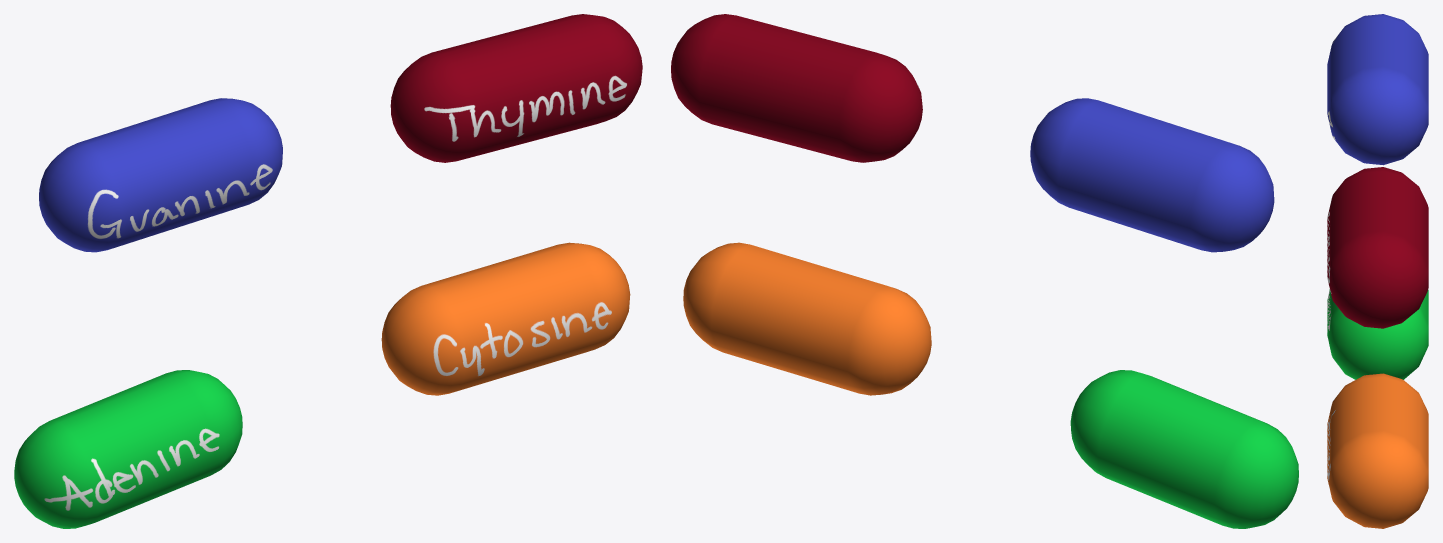
File: dna_parts.gltf
3 renders of one model, left to right at view 1: azimuth 30°, elevation 25°; view 2: azimuth 150°, elevation 25°; view 3: azimuth 270°, elevation 25°, orthographic. The views are drawn at different scales.
Visible parts, largest first — view 1: mesh_id160, mesh_id162, mesh_id159, mesh_id161; view 2: mesh_id160, mesh_id162, mesh_id159, mesh_id161; view 3: mesh_id160, mesh_id162, mesh_id159, mesh_id161.
Boxes of the visible parts, box(x1,y1,x2,y2) form: mesh_id160: box(390, 14, 642, 162); mesh_id162: box(381, 242, 630, 395); mesh_id159: box(39, 98, 282, 252); mesh_id161: box(14, 370, 242, 528); mesh_id160: box(671, 14, 922, 162); mesh_id162: box(683, 242, 931, 395); mesh_id159: box(1030, 98, 1274, 252); mesh_id161: box(1070, 370, 1298, 528); mesh_id160: box(1327, 167, 1428, 328); mesh_id162: box(1327, 373, 1428, 528); mesh_id159: box(1327, 14, 1428, 165); mesh_id161: box(1327, 289, 1428, 379).
Size of the model in its own units: 0.9448 by 0.5622 by 0.1484.
Materials: 4 (4 with a texture image).
